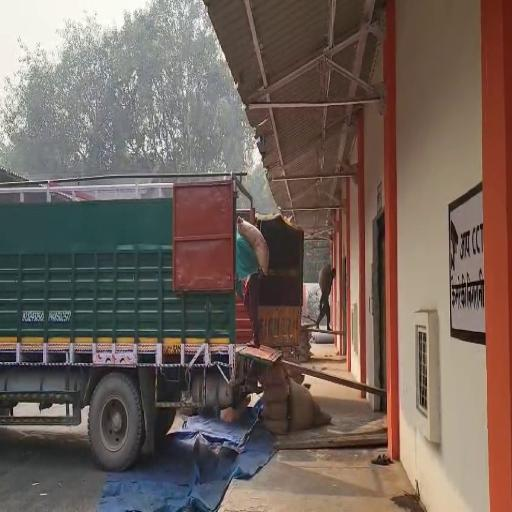bag: (236, 216, 270, 278)
